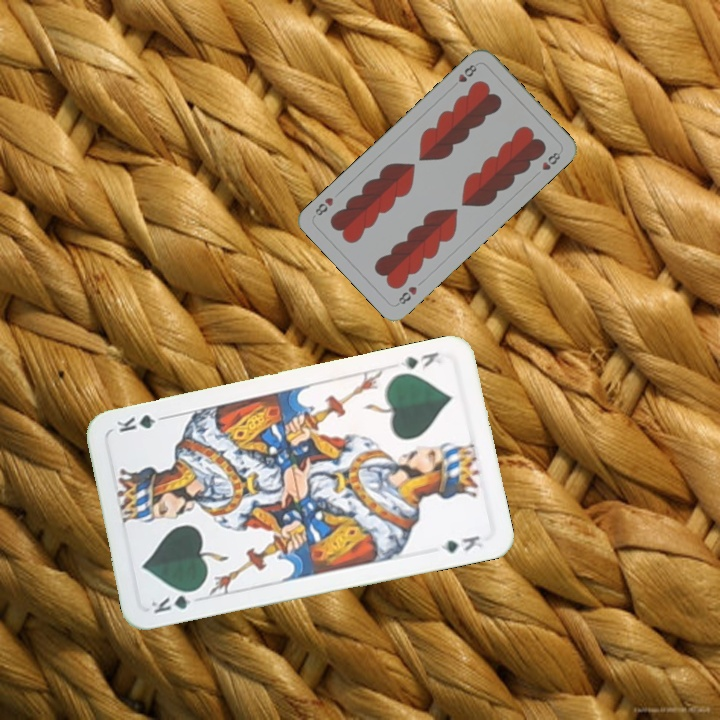GK: (147, 585, 202, 616), (396, 348, 441, 372)
H8: (448, 60, 479, 91), (393, 282, 420, 308)
